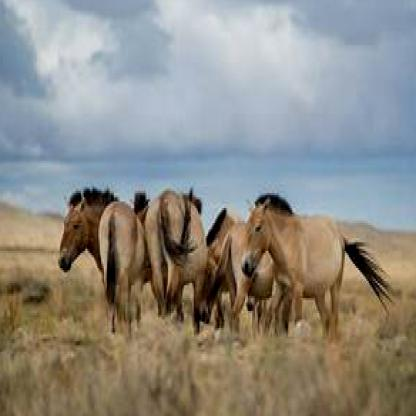horse: (241, 193, 393, 345), (56, 184, 146, 328), (142, 191, 204, 328)
